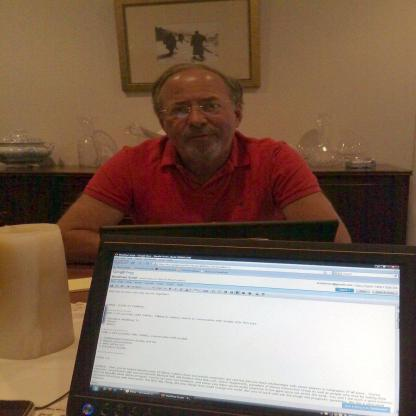board: (46, 223, 408, 416)
